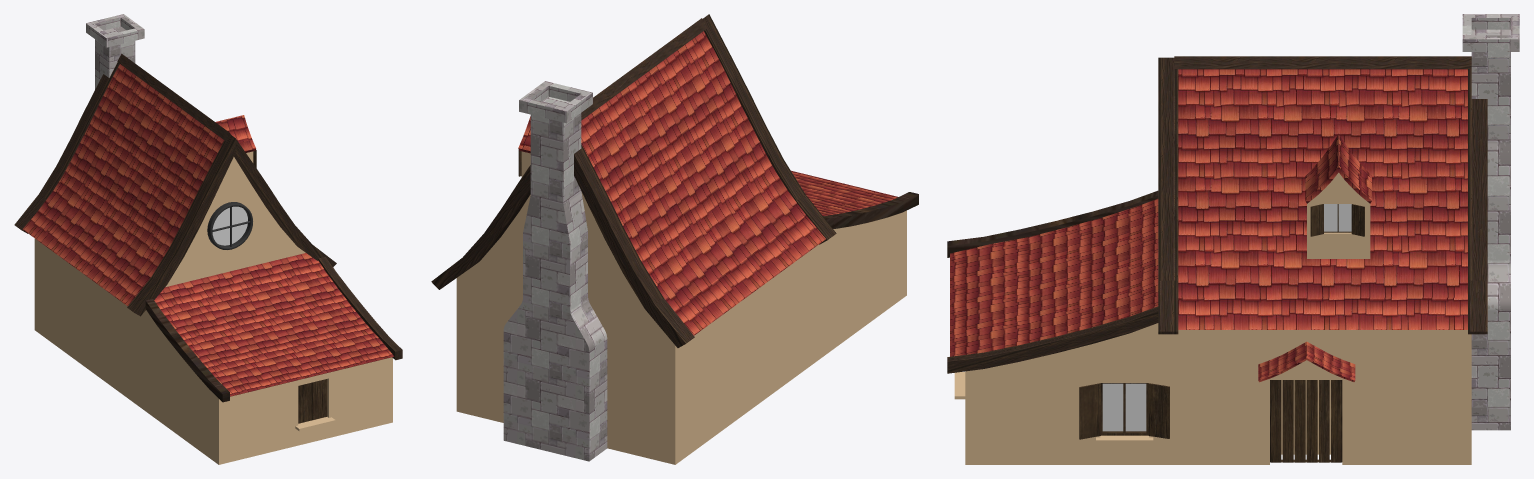
File: HouseFarm.fbx
3 renders of one model, left to right at view 1: azimuth 30°, elevation 25°; view 2: azimuth 150°, elevation 25°; view 3: azimuth 270°, elevation 25°, orthographic. The views are drawn at different scales.
Parts seen in each view (by area): view 1: Cube.006, Cube.004, Cube.014, Cube.010, Cylinder, Cube.009; view 2: Cube.004, Cube.006, Cube.010, Cube.014; view 3: Cube.006, Cube.004, Cube.014, Cube.010, Box007, Cube.009, Cube.012.
Part boxes in pixels (x1,y1,x2,y2): Cube.006: (23, 64, 394, 396); Cube.004: (34, 151, 392, 464); Cube.014: (14, 53, 402, 402); Cube.010: (86, 14, 144, 89); Cylinder: (207, 202, 252, 249); Cube.009: (298, 379, 327, 423); Cube.004: (456, 151, 906, 464); Cube.006: (518, 31, 897, 335); Cube.010: (503, 81, 607, 461); Cube.014: (431, 14, 918, 347); Cube.006: (950, 69, 1467, 382); Cube.004: (954, 172, 1471, 464); Cube.014: (947, 56, 1487, 373); Cube.010: (1462, 14, 1519, 430); Box007: (1270, 380, 1342, 462); Cube.009: (1100, 204, 1351, 435); Cube.012: (1079, 204, 1364, 439).
Size of the model in its own units: 436 by 543 by 740.
